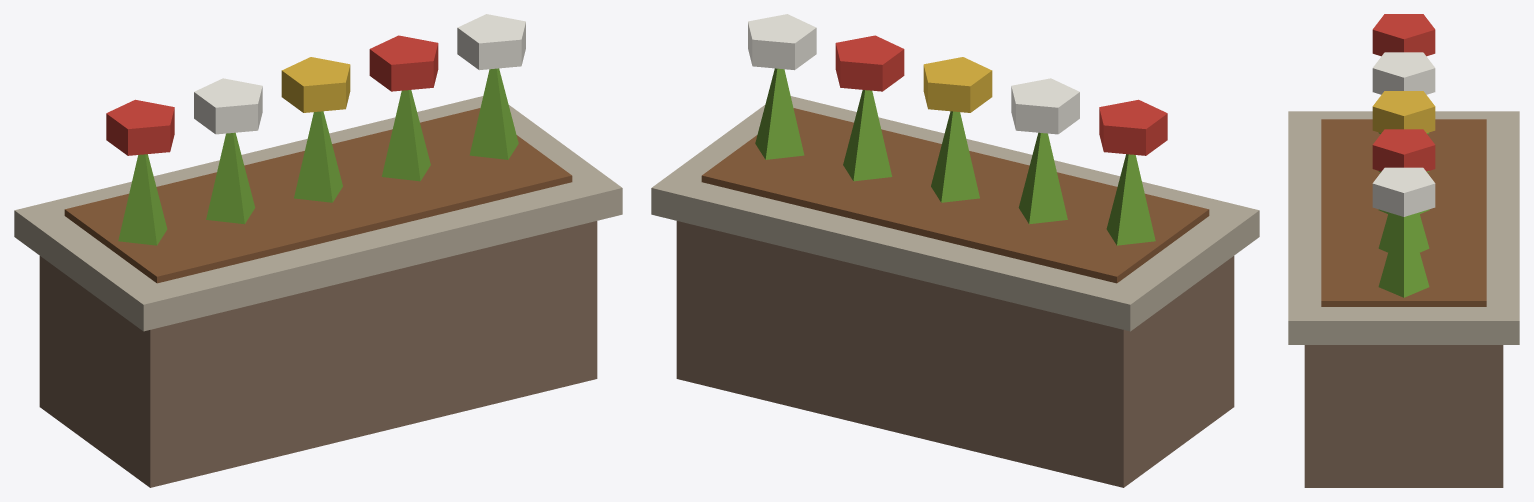
The model's file is planter.fbx.
3 views of the same model, side by side, from view 1: azimuth 30°, elevation 25°; view 2: azimuth 150°, elevation 25°; view 3: azimuth 270°, elevation 25° (orthographic). The views are drawn at different scales.
Visible parts, largest first — view 1: planter; view 2: planter; view 3: planter.
Boxes of the visible parts, x1,y1,x2,y2 form: planter: [14, 14, 622, 487]; planter: [651, 14, 1259, 487]; planter: [1288, 14, 1519, 487].
Bounding box in the file's own units: 1.5 × 0.96 × 0.7.
